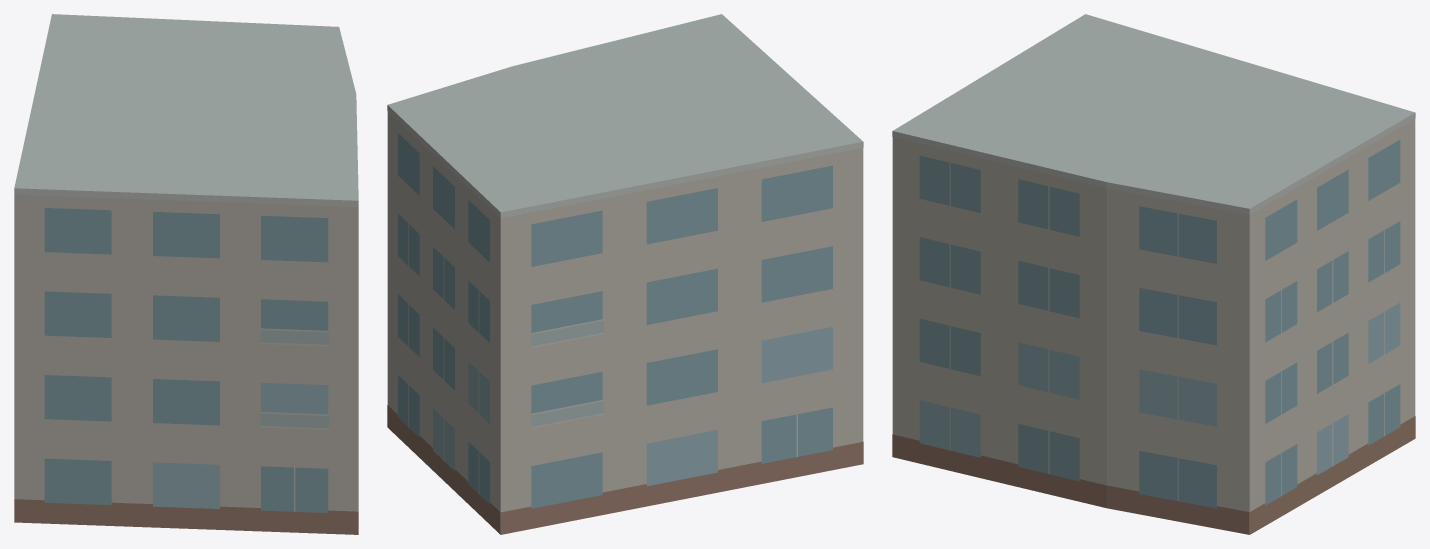
File: survey-upis-32494020.glb
3 renders of one model, left to right at view 1: azimuth 30°, elevation 25°; view 2: azimuth 150°, elevation 25°; view 3: azimuth 270°, elevation 25°, orthographic. The views are drawn at different scales.
Parts seen in each view (by area): view 1: survey-upis-32494020.tmp; view 2: survey-upis-32494020.tmp; view 3: survey-upis-32494020.tmp.
Boxes of the visible parts, bbox=[...] form: survey-upis-32494020.tmp: bbox=[14, 14, 358, 534]; survey-upis-32494020.tmp: bbox=[387, 14, 863, 534]; survey-upis-32494020.tmp: bbox=[892, 14, 1415, 534].
Size of the model in its own units: 16.67 by 13 by 18.91.
